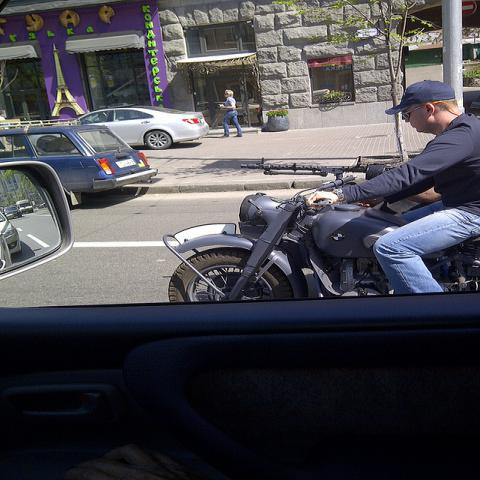car: (4, 288, 479, 471), (0, 119, 159, 208), (72, 105, 211, 150), (0, 210, 23, 256)
motorcycle: (163, 173, 480, 302)
